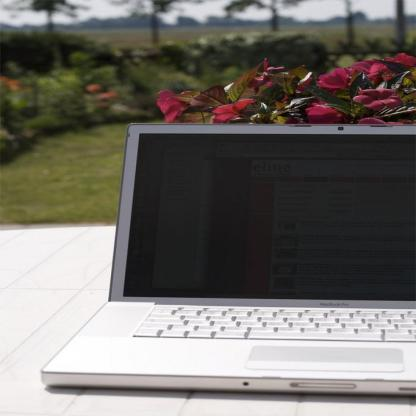board: (38, 119, 416, 391)
